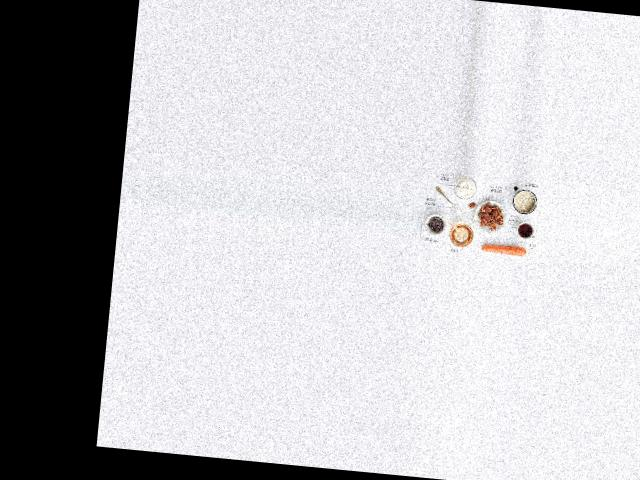carrot: (476, 237, 531, 259)
